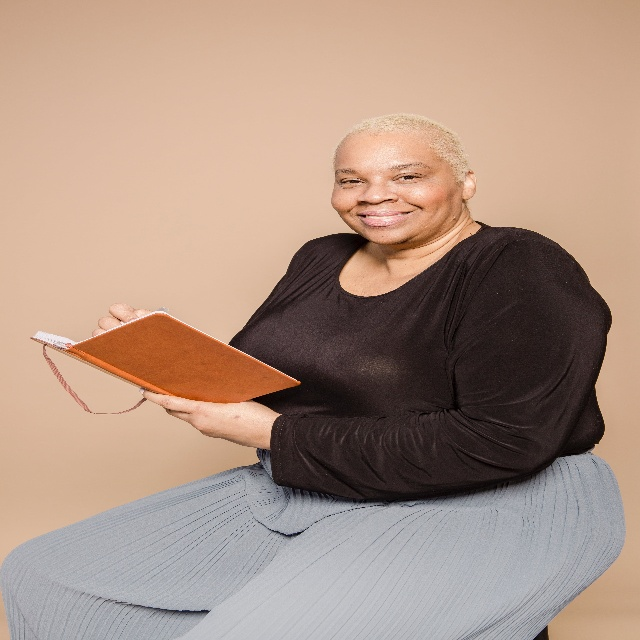Sin_guantes: (139, 386, 268, 450), (91, 302, 152, 338)
